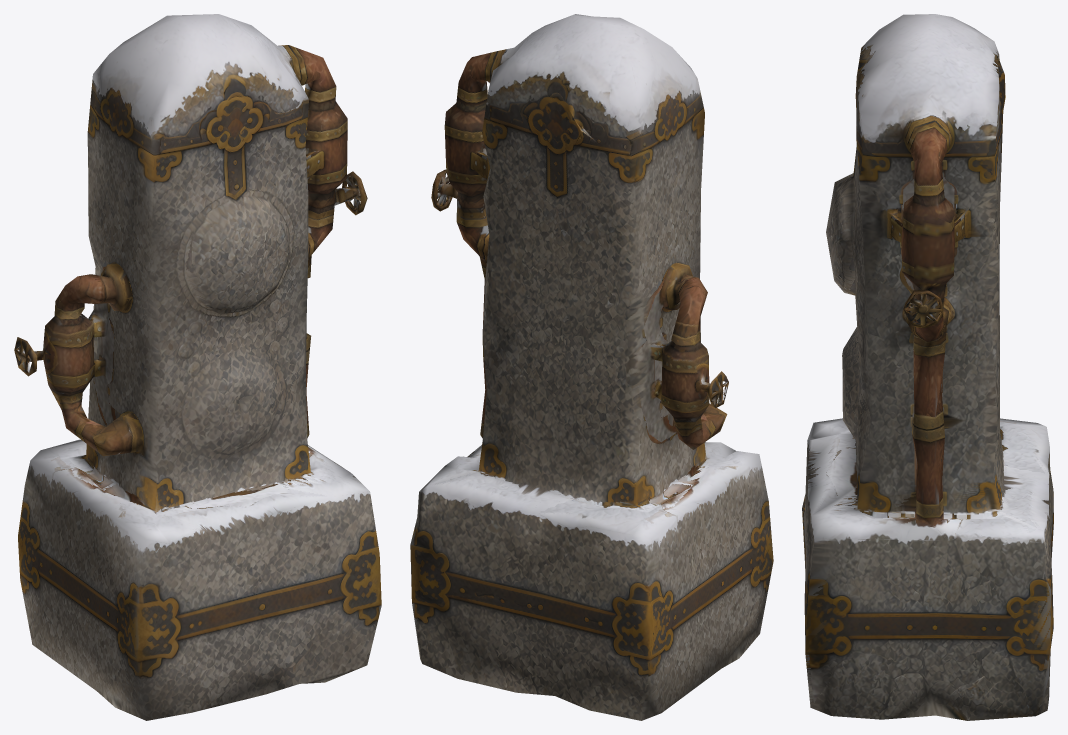
File: PR_Pumgyeseok.fbx
The picture shows the model from 3 angles, left to right: view 1: azimuth 30°, elevation 25°; view 2: azimuth 150°, elevation 25°; view 3: azimuth 270°, elevation 25°; orthographic projection.
Visible parts, largest first — view 1: texture_mapping; view 2: texture_mapping; view 3: texture_mapping.
Boxes of the visible parts, x1=… form: texture_mapping: x1=14, y1=14, x2=381, y2=720; texture_mapping: x1=410, y1=14, x2=773, y2=720; texture_mapping: x1=802, y1=14, x2=1053, y2=720.
Size of the model in its own units: 0.5102 by 0.3576 by 1.
1 material, 1 textured.
